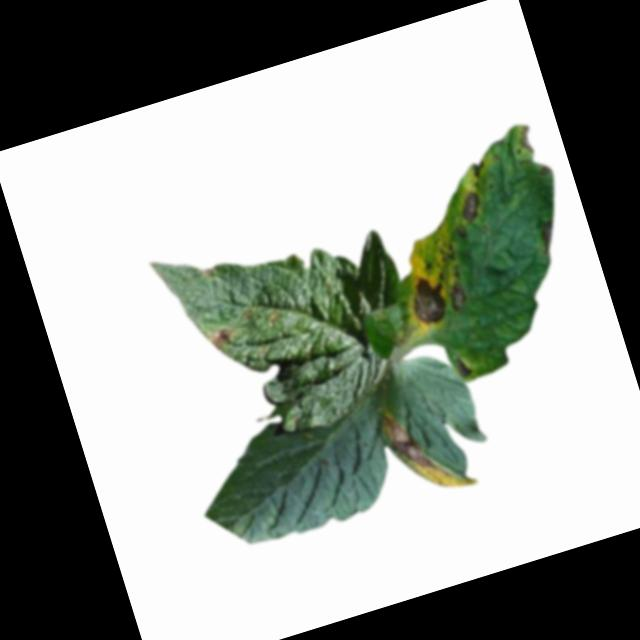Early_blight: (378, 390, 480, 508), (402, 269, 455, 329), (532, 210, 568, 259), (455, 186, 491, 223), (444, 272, 475, 309), (209, 324, 242, 354), (515, 122, 539, 159), (453, 354, 474, 381), (468, 157, 492, 179)
